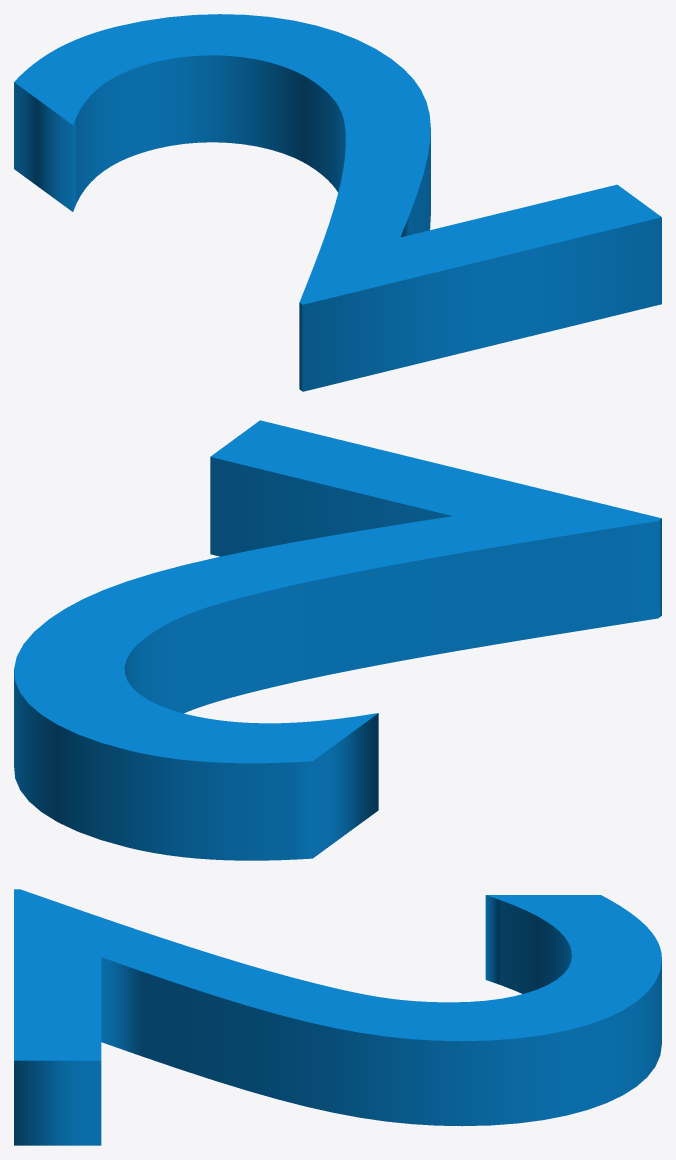
File: Two.fbx
3 renders of one model, top to bottom at view 1: azimuth 30°, elevation 25°; view 2: azimuth 150°, elevation 25°; view 3: azimuth 270°, elevation 25°, orthographic. The views are drawn at different scales.
Visible parts, largest first — view 1: Two; view 2: Two; view 3: Two.
Part boxes in pixels (x1,y1,x2,y2): Two: [14, 14, 661, 391]; Two: [14, 420, 661, 860]; Two: [14, 889, 661, 1145].
Size of the model in its own units: 138 by 20 by 86.4.
